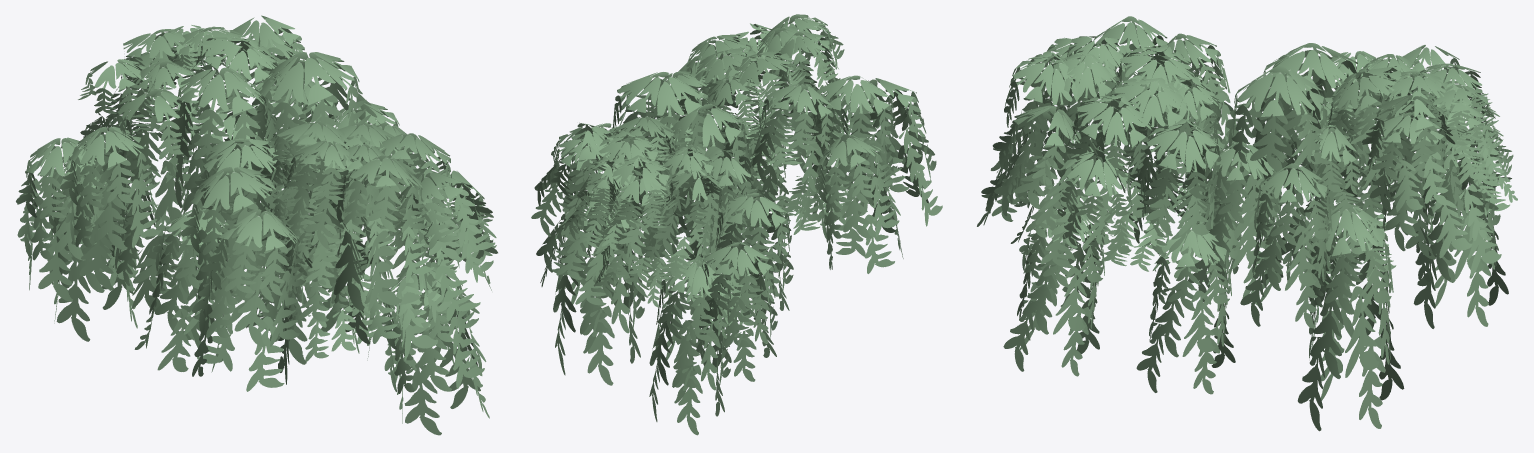
File: willow_G_top_LOD0.fbx
3 views of the same model, side by side, from view 1: azimuth 30°, elevation 25°; view 2: azimuth 150°, elevation 25°; view 3: azimuth 270°, elevation 25° (orthographic). The views are drawn at different scales.
Visible parts, largest first — view 1: polySurface349; view 2: polySurface349; view 3: polySurface349.
Boxes of the visible parts, bbox=[...] form: polySurface349: bbox=[16, 15, 497, 435]; polySurface349: bbox=[531, 14, 942, 435]; polySurface349: bbox=[977, 16, 1517, 431].
Size of the model in its own units: 3.7 by 3.61 by 5.25.
